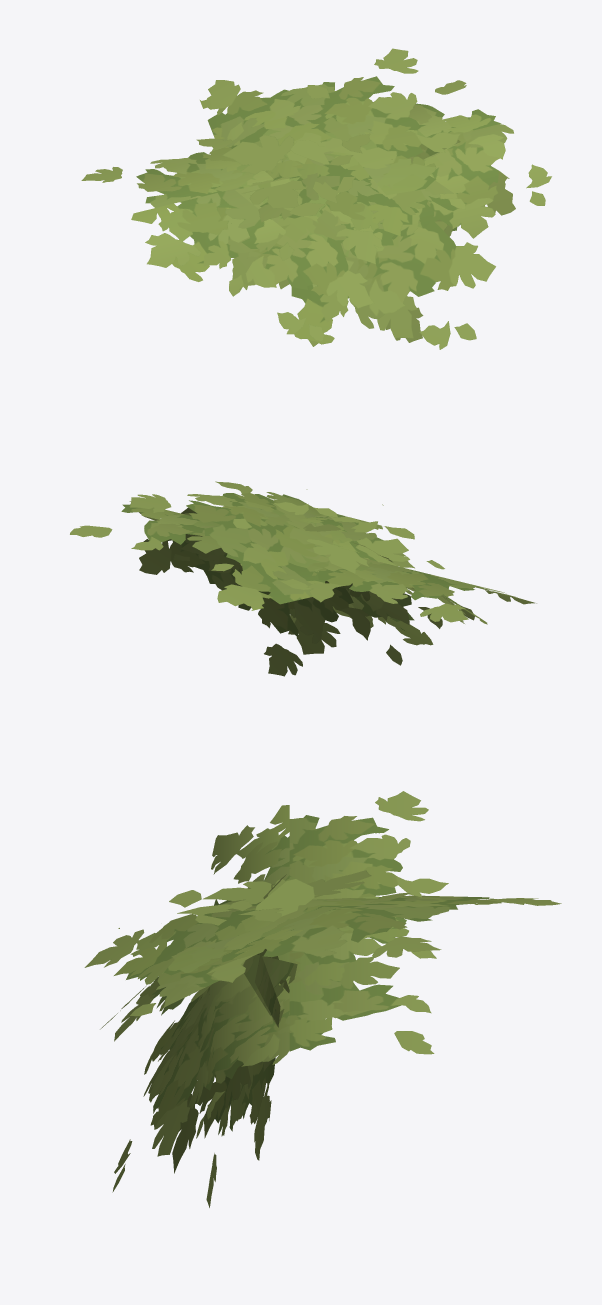
The model's file is SM_Env_Vine_11.fbx.
The picture shows the model from 3 angles, top to bottom: view 1: azimuth 30°, elevation 25°; view 2: azimuth 150°, elevation 25°; view 3: azimuth 270°, elevation 25°; orthographic projection. The views are drawn at different scales.
Visible parts, largest first — view 1: SM_Env_Vine_11; view 2: SM_Env_Vine_11; view 3: SM_Env_Vine_11.
Boxes of the visible parts, x1=… form: SM_Env_Vine_11: x1=81, y1=48, x2=551, y2=349; SM_Env_Vine_11: x1=70, y1=481, x2=536, y2=676; SM_Env_Vine_11: x1=84, y1=791, x2=561, y2=1207.
Size of the model in its own units: 250 by 151 by 197.
